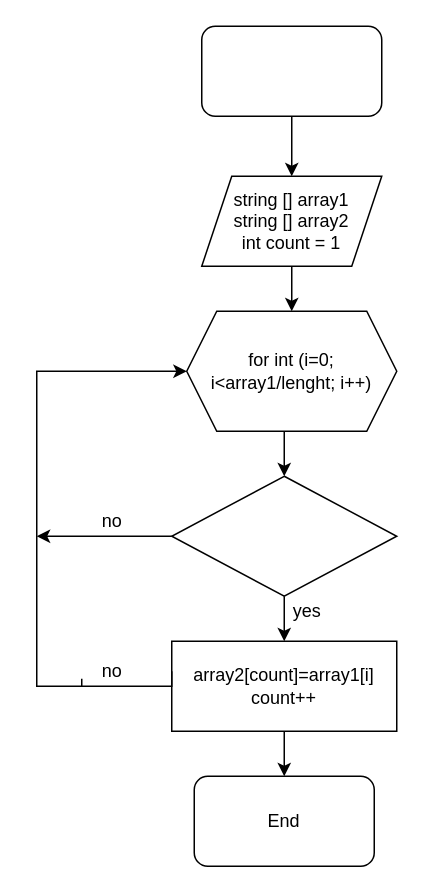
The diagram is 423 pixels wide and 893 high, and some of its shapes have lost their labels. The centre of each missing label's shape, as x and y in pixels:
"if(array1[i]/lenght<=3)" goes at point (283, 535).
"Start" goes at point (291, 70).
